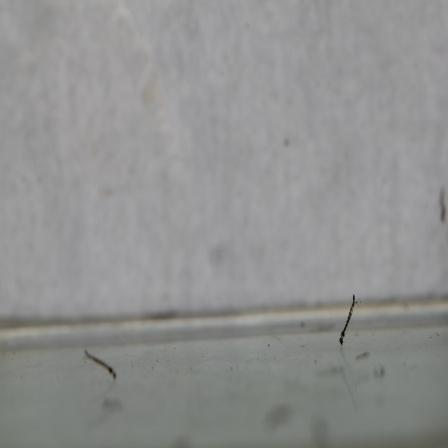Jentik-Nyamuk: (334, 292, 362, 348), (81, 347, 123, 383)
